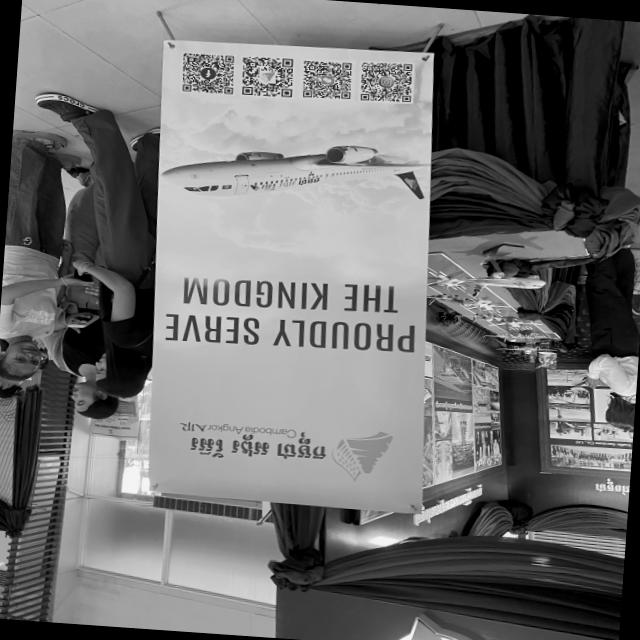2: (177, 423, 328, 463)
Yolov11_80vkh: (592, 478, 625, 495)
